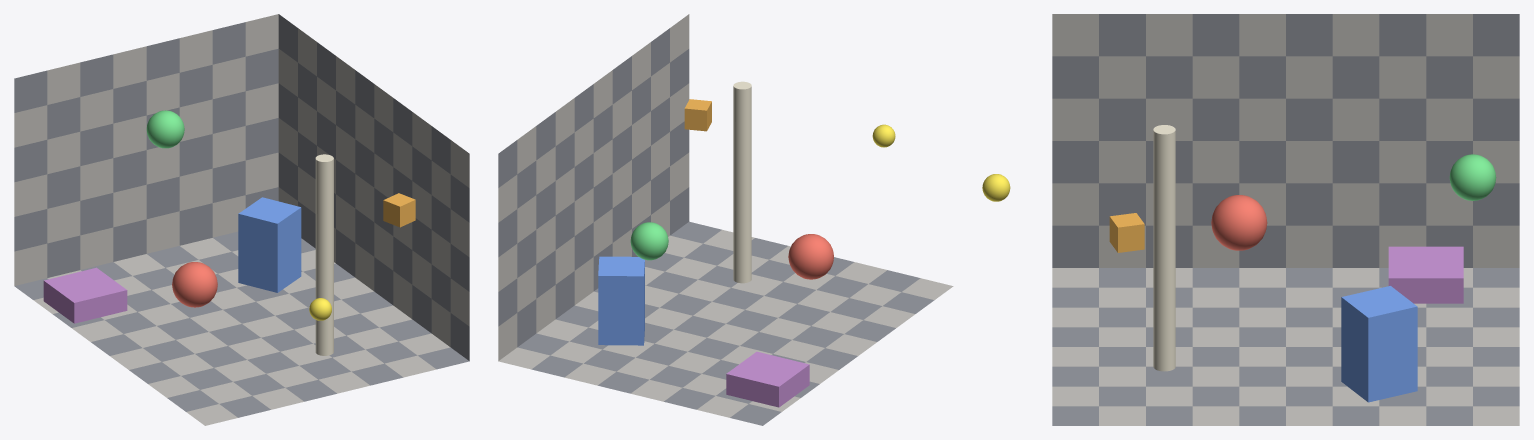
The model's file is room.glb.
3 renders of one model, left to right at view 1: azimuth 30°, elevation 25°; view 2: azimuth 150°, elevation 25°; view 3: azimuth 270°, elevation 25°, orthographic. The views are drawn at different scales.
Parts seen in each view (by area): view 1: room, objects; view 2: room, objects; view 3: room, objects.
Boxes of the visible parts, <box> form: room: <box>14,14,469,425</box>; objects: <box>43,110,415,355</box>; room: <box>498,14,953,425</box>; objects: <box>598,81,895,407</box>; room: <box>1052,14,1519,425</box>; objects: <box>982,125,1496,402</box>.
Bounding box in the file's own units: 0.4 × 0.3 × 0.575.
